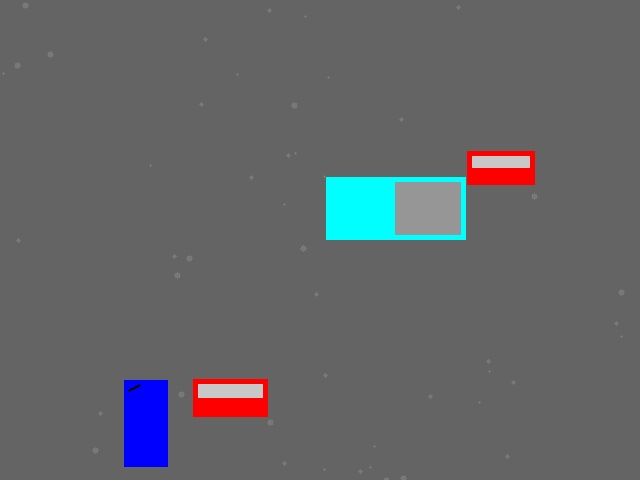car: (193, 379, 267, 416), (467, 151, 534, 184)
motorcycle: (124, 380, 167, 466)
truck: (326, 177, 465, 239)
